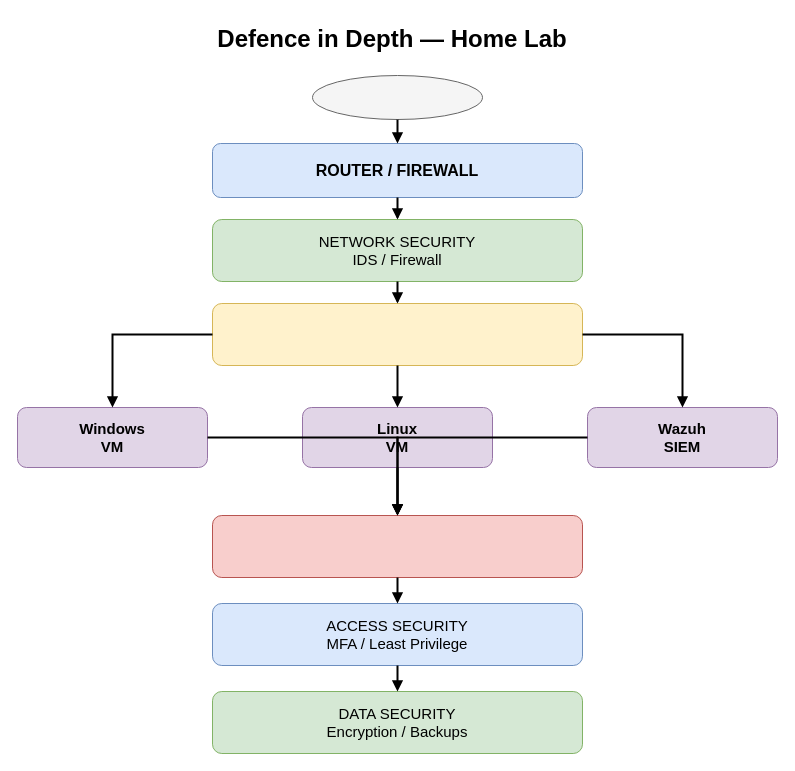
This 795x771 diagram has some shape labels left out. Here are the shapes that lost their labels. From the top down, the box of each, then its label:
(312, 74, 482, 120): INTERNET
(212, 302, 582, 366): NETWORK SEGMENTATION VLAN / Lab Network
(212, 514, 582, 578): ENDPOINT SECURITY EDR / Sysmon
